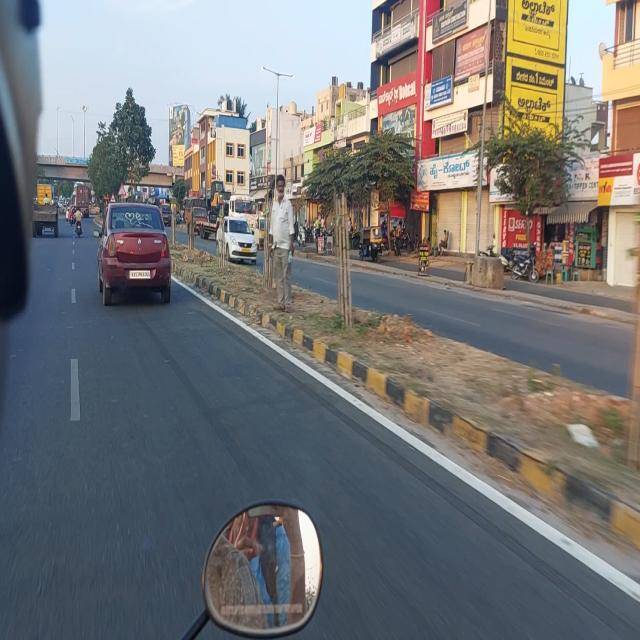bien_cam: (117, 181, 126, 196), (109, 190, 116, 202)
